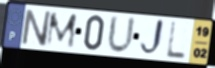0: (82, 14, 106, 52)
J: (138, 17, 166, 59)
L: (165, 20, 188, 61)
M: (44, 12, 79, 50)
N: (20, 8, 52, 48)
U: (106, 13, 137, 56)
